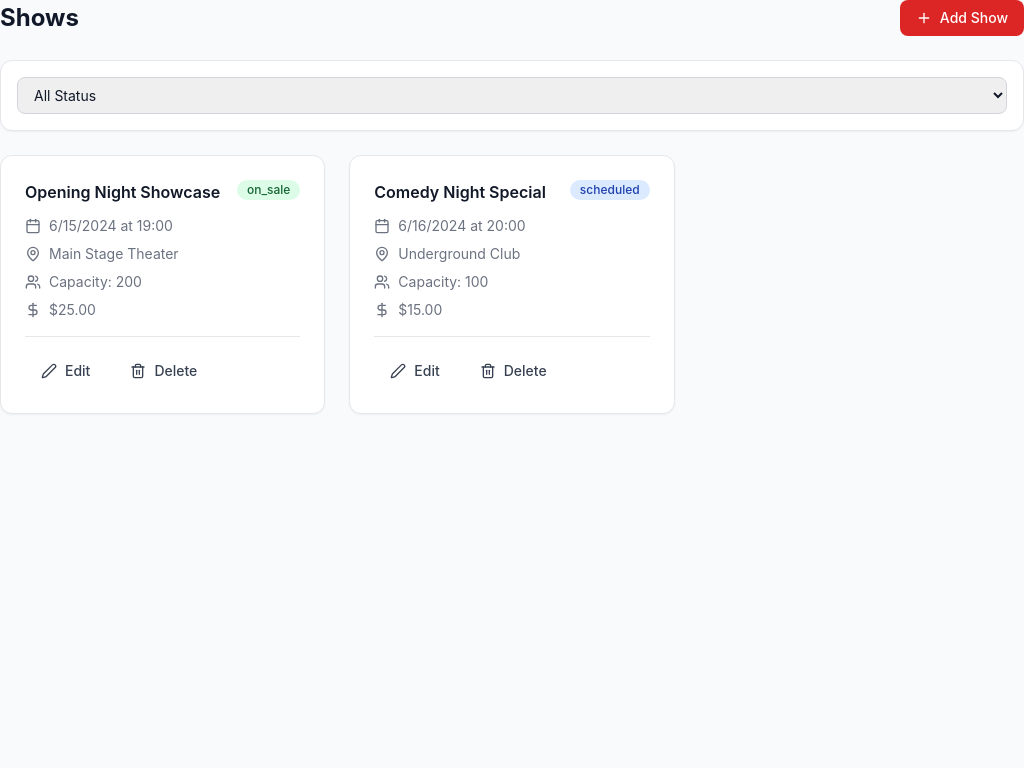
Test: Shows › edit show modal › opens modal with show data when clicking Edit
Expected: the heading "Opening Night Showcase" is shown, 25,180 -> 220,204
Click the button "Edit" below "25.00".
click(66, 371)  # box 25,353 -> 106,389
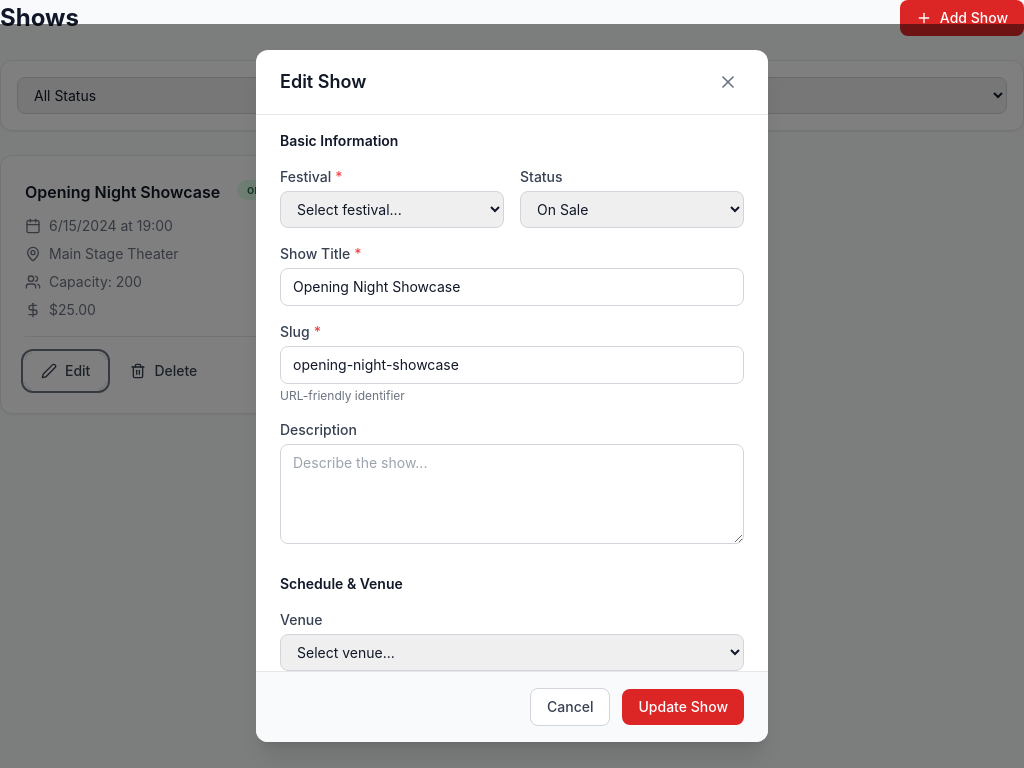
Now the heading "Edit Show" is shown, box 280,68 -> 366,96
